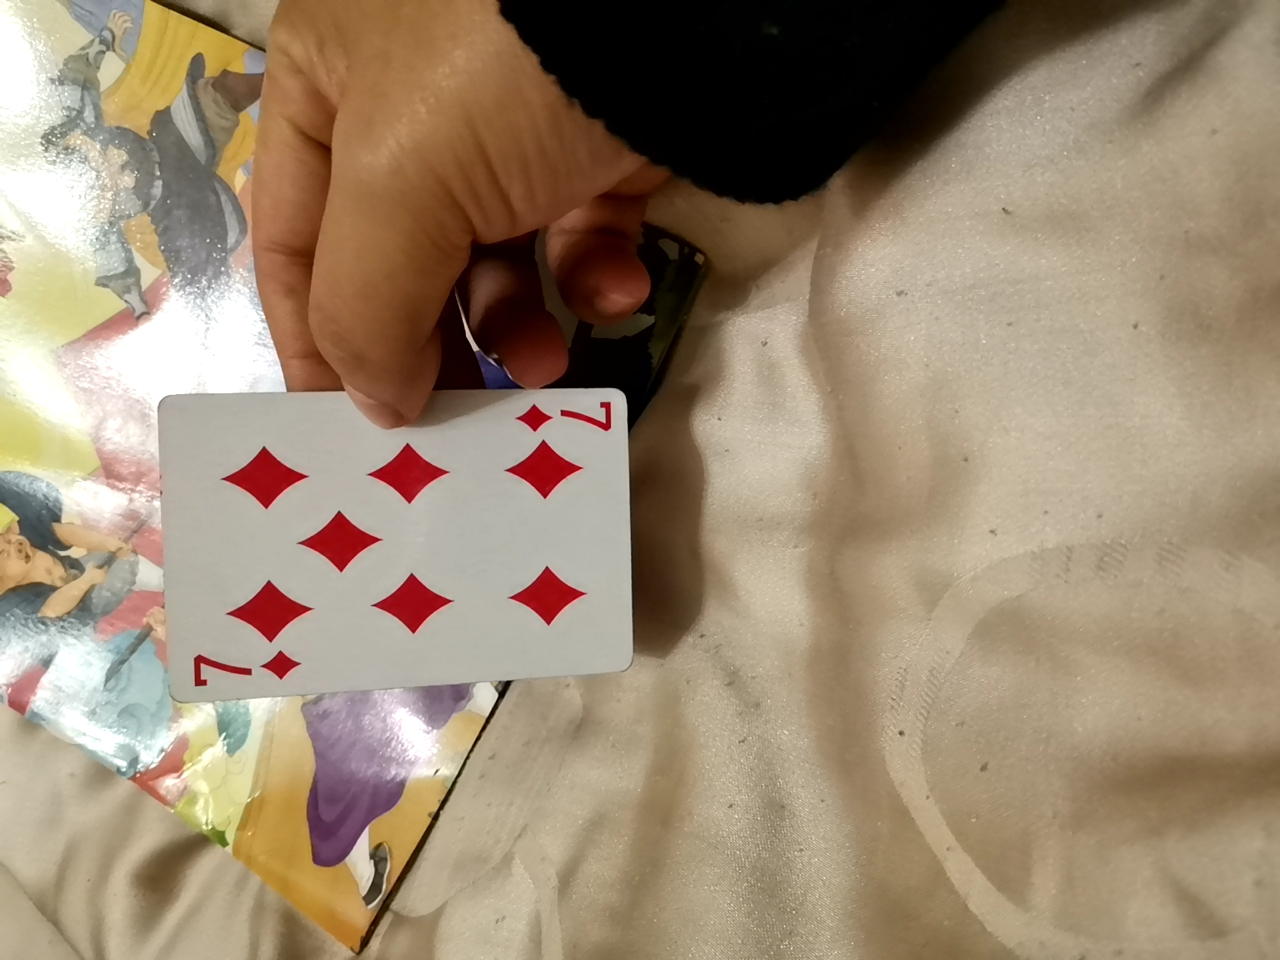fk 7: (158, 382, 634, 709)
